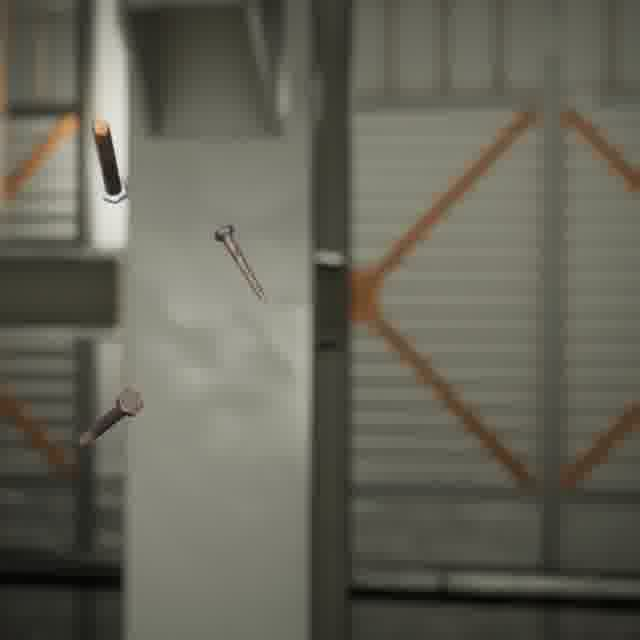bolt: (209, 220, 272, 308), (74, 384, 147, 450), (88, 116, 131, 208)
